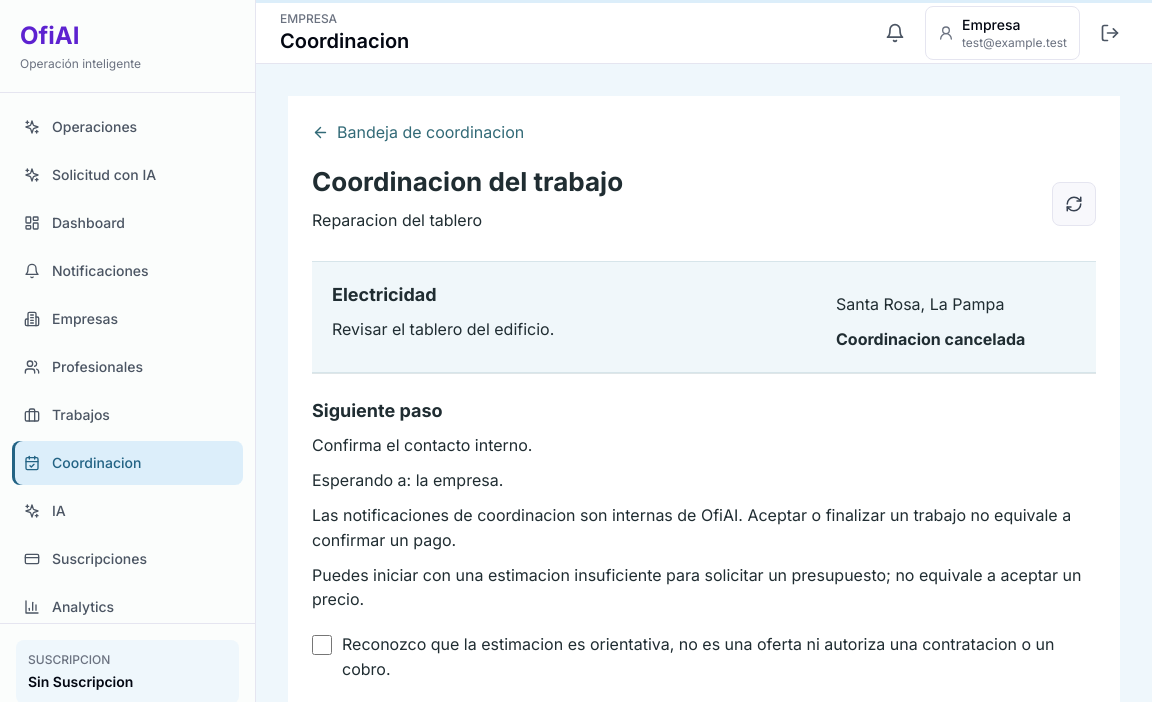
Test: reinicio de CANCELLED depende del estado publicado del trabajo
This screenshot has width=1152, height=702.
Expected: the text "Coordinacion cancelada" is shown, [836, 329, 1025, 349]
Step 1. Click the checkbox labelled "Reconozco" → [322, 645], box [312, 635, 332, 655]
(page scrolled)
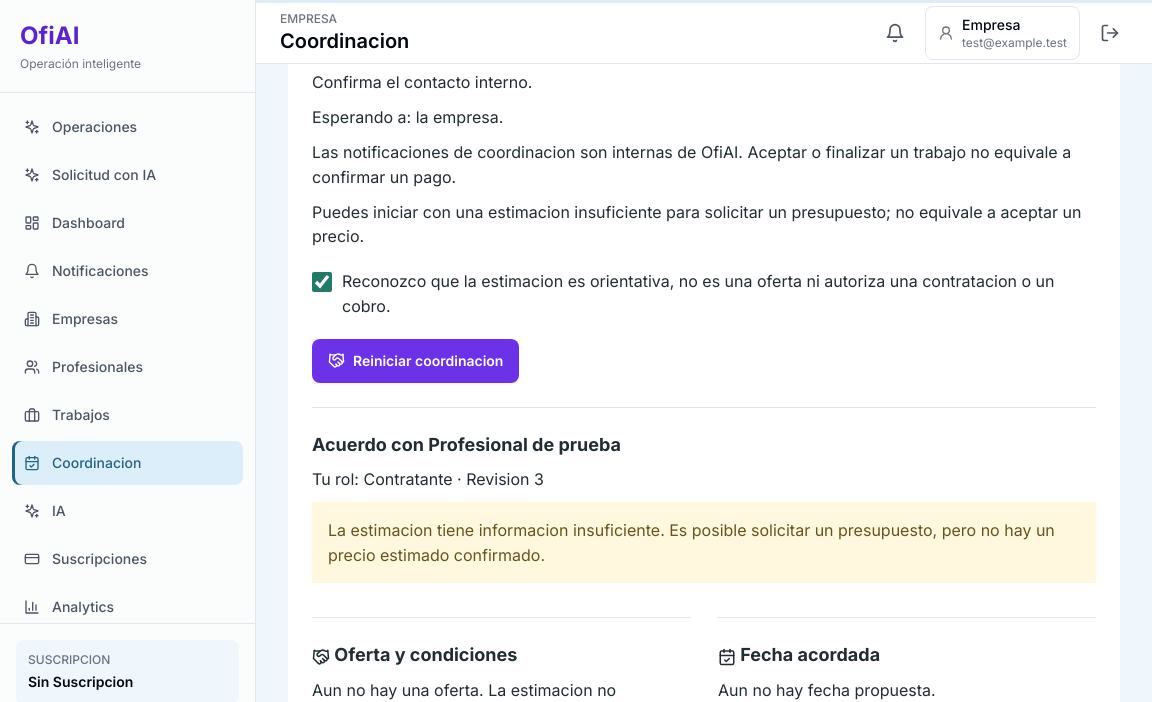
Step 2. Click the button "Reiniciar coordinacion" → [416, 361], box [312, 339, 519, 383]
(page scrolled)
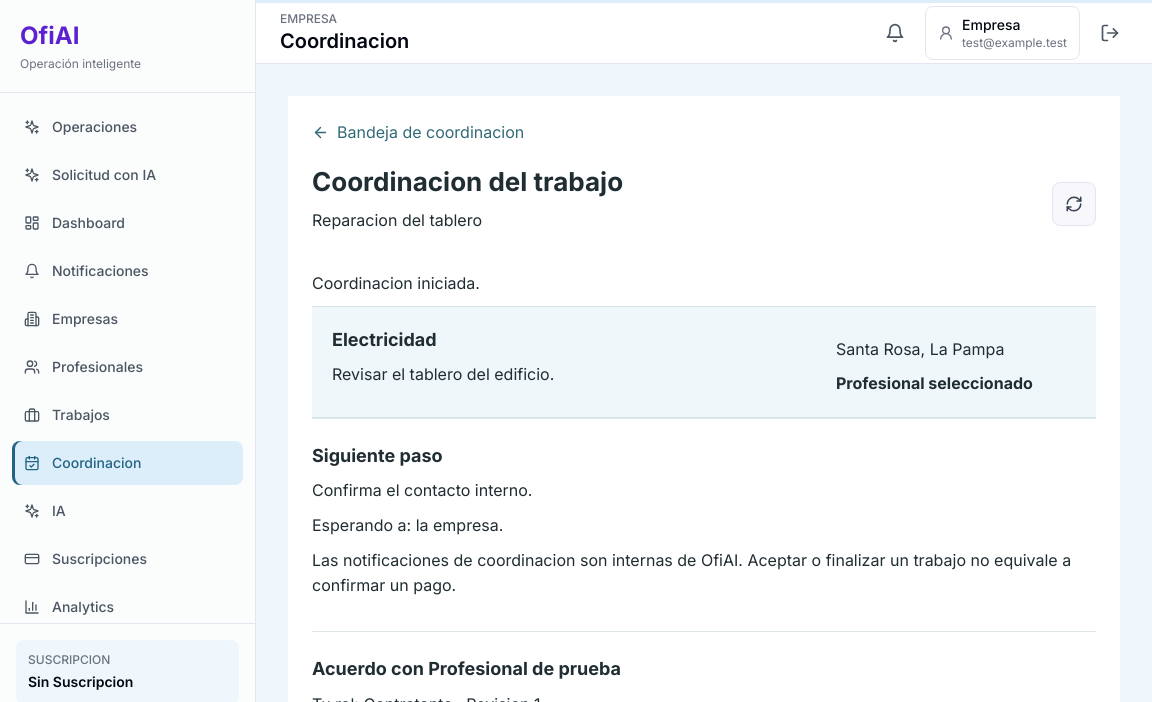
Expected: the text "Coordinacion iniciada." is shown, [312, 273, 480, 293]
